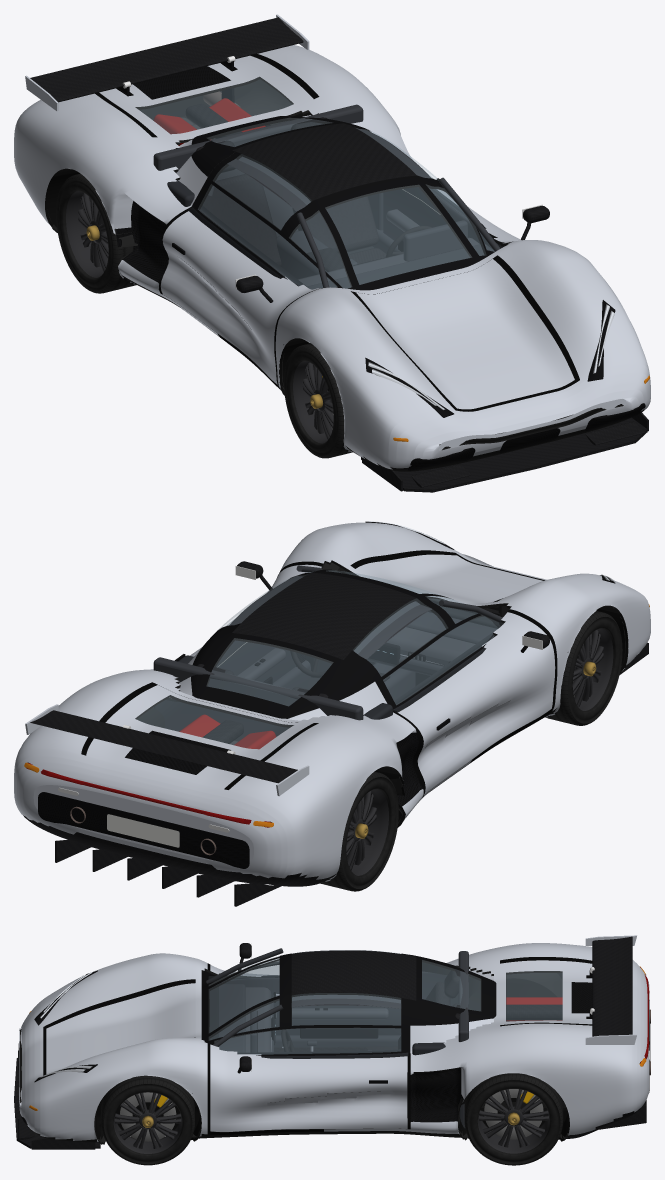
File: car_hyper.glb
The picture shows the model from 3 angles, top to bottom: view 1: azimuth 30°, elevation 25°; view 2: azimuth 150°, elevation 25°; view 3: azimuth 270°, elevation 25°; orthographic projection. The views are drawn at different scales.
Visible parts, largest first — view 1: car_hyper, door_R, frunk, engine_cover, wing_flap, wheel_RR, wheel_FR, splitter, door_L, flap_front_R, flap_front_L; view 2: car_hyper, door_R, engine_cover, diffuser, frunk, wing_flap, wheel_FR, wheel_RR, door_L; view 3: car_hyper, door_L, frunk, wheel_RL, wheel_FL, engine_cover, door_R, wing_flap, splitter, diffuser.
Part boxes in pixels (x1,y1,x2,y2): car_hyper: [14, 45, 650, 471]; door_R: [160, 152, 342, 384]; frunk: [356, 259, 574, 409]; engine_cover: [99, 55, 313, 137]; wing_flap: [25, 14, 309, 111]; wheel_RR: [56, 173, 136, 293]; wheel_FR: [284, 343, 352, 458]; splitter: [361, 412, 648, 492]; door_L: [351, 126, 549, 255]; flap_front_R: [411, 464, 470, 487]; flap_front_L: [585, 422, 644, 445]; car_hyper: [14, 521, 650, 881]; door_R: [347, 599, 555, 795]; engine_cover: [86, 685, 313, 789]; diffuser: [23, 815, 335, 906]; frunk: [356, 554, 542, 607]; wing_flap: [25, 704, 309, 796]; wheel_FR: [545, 611, 622, 725]; wheel_RR: [320, 771, 398, 891]; door_L: [175, 561, 322, 684]; car_hyper: [18, 943, 650, 1144]; door_L: [208, 993, 410, 1131]; frunk: [46, 983, 195, 1074]; wheel_RL: [464, 1073, 563, 1165]; wheel_FL: [101, 1075, 194, 1165]; engine_cover: [500, 960, 592, 1025]; door_R: [208, 943, 409, 1038]; wing_flap: [585, 935, 637, 1044]; splitter: [14, 1058, 100, 1149]; diffuser: [562, 1100, 646, 1139].
Size of the model in its own units: 2.14 by 1.15 by 4.7.
46 materials, 8 textured.
